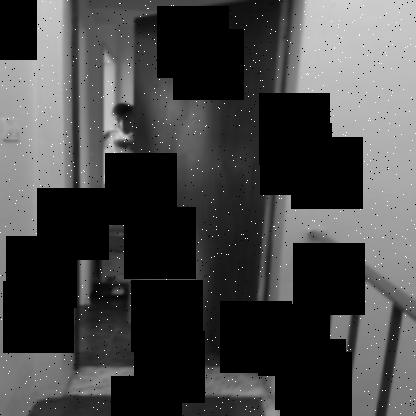Porte: (69, 0, 288, 371)
